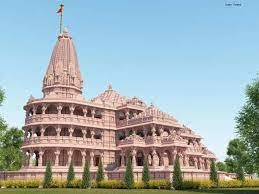Temple: (15, 23, 221, 172)
